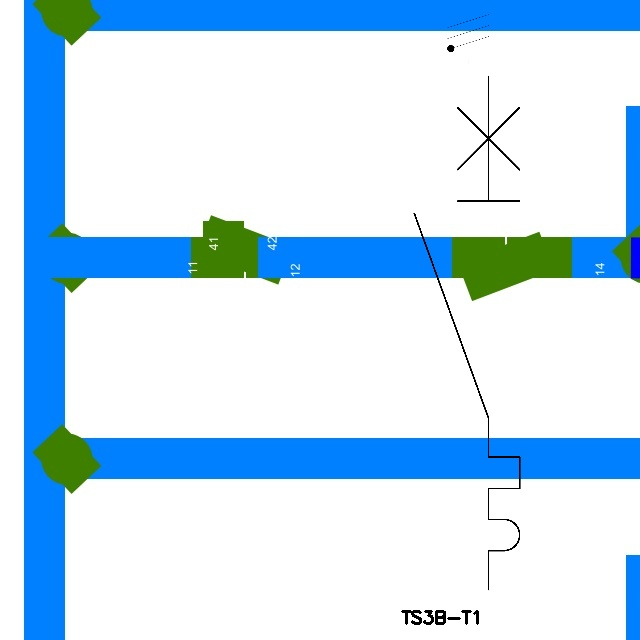interruptor_termomagnetico: (401, 63, 533, 602)
